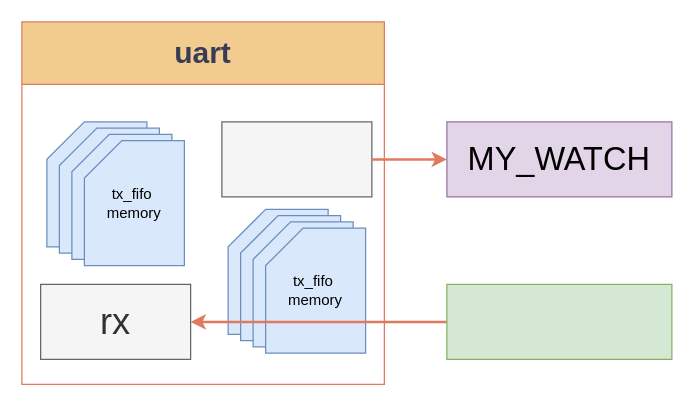
This 694x406 diagram has some shape labels left out. The shapes that lost their labels are listed below. From the top down, each one's centre as x and y in pixels, then its label:
point (296, 159): tx
point (559, 321): pc
